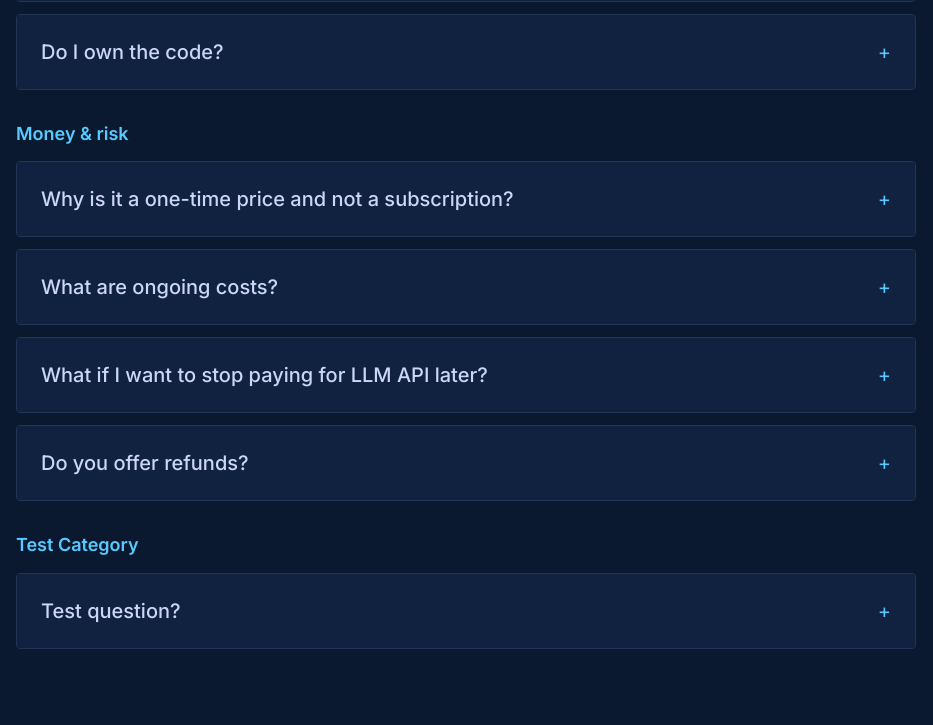
Test: FAQ › collapses FAQ when clicked again
(page scrolled)
Click the text "Test question?" at coordinates (111, 610), box top-left (41, 598), bottom-right (181, 624)
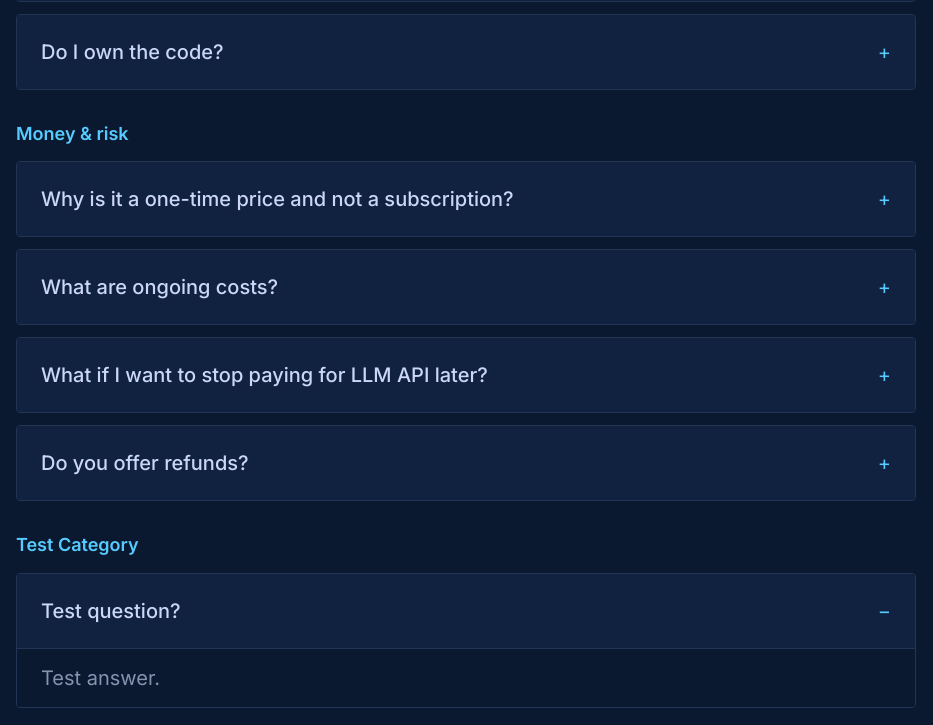
Expected: the text "Test answer." is shown, top-left (41, 666), bottom-right (160, 690)
Click the text "Test question?" at coordinates (111, 610), box top-left (41, 598), bottom-right (181, 624)
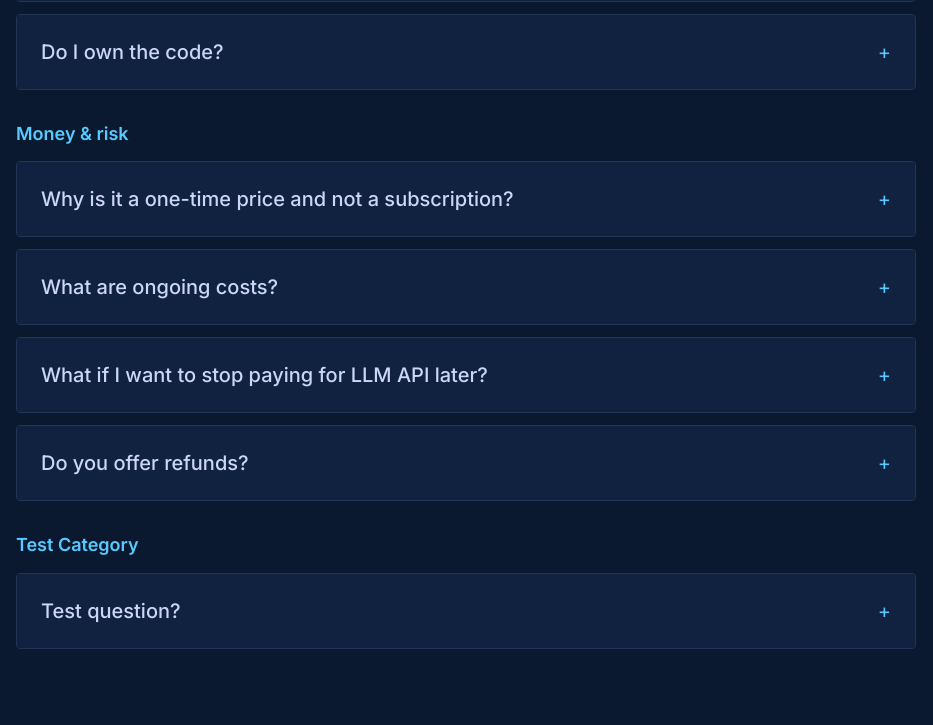
Expected: the text "Test answer." is gone
